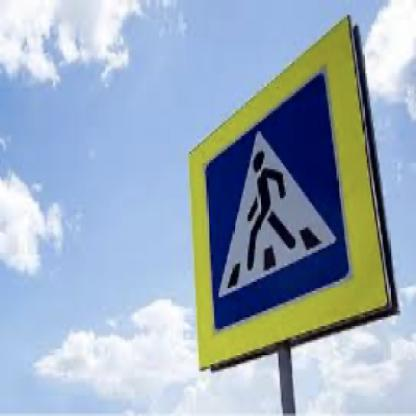crosswalk: (202, 72, 350, 332)
